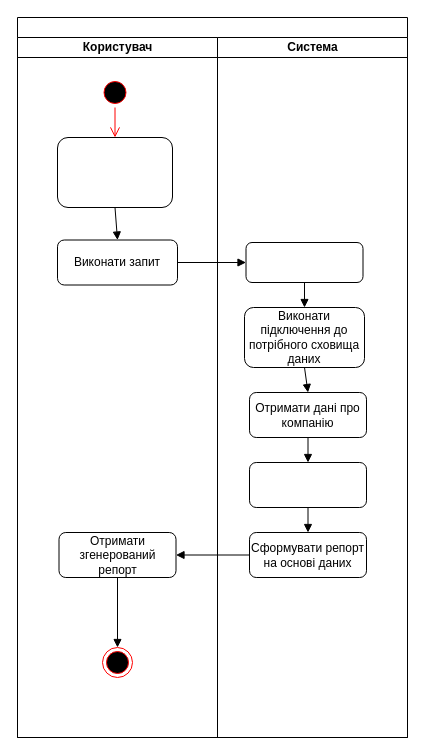
Image size: 425x755. Some labels were removed from this diagram. Each missing label, with the centre of its shape:
"Отримати дані про виміри" goes at (307,485).
"Перевірити аутенифікацію" goes at (304,262).
"сформувати запит з параметрами вимірів та токеном" goes at (114,172).
